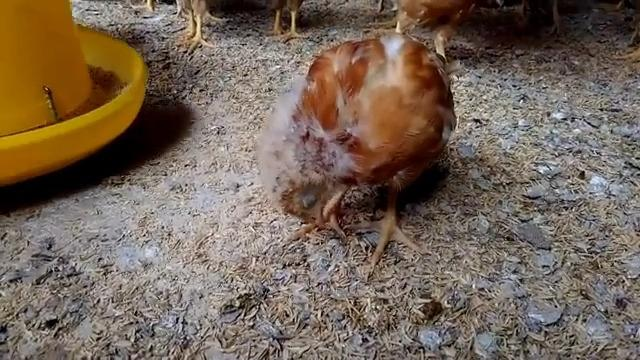AbNormal: (260, 33, 462, 261)
